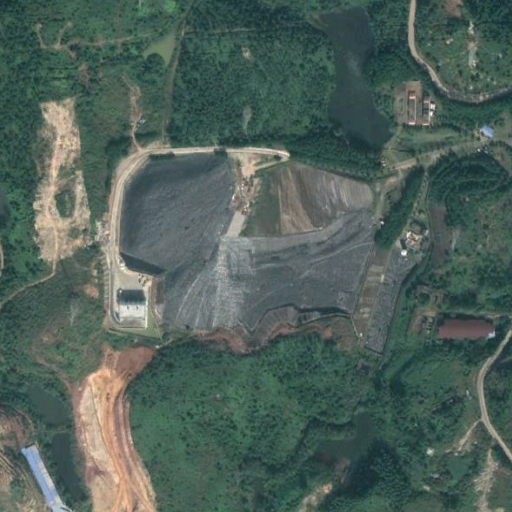lf: (118, 154, 376, 347)
